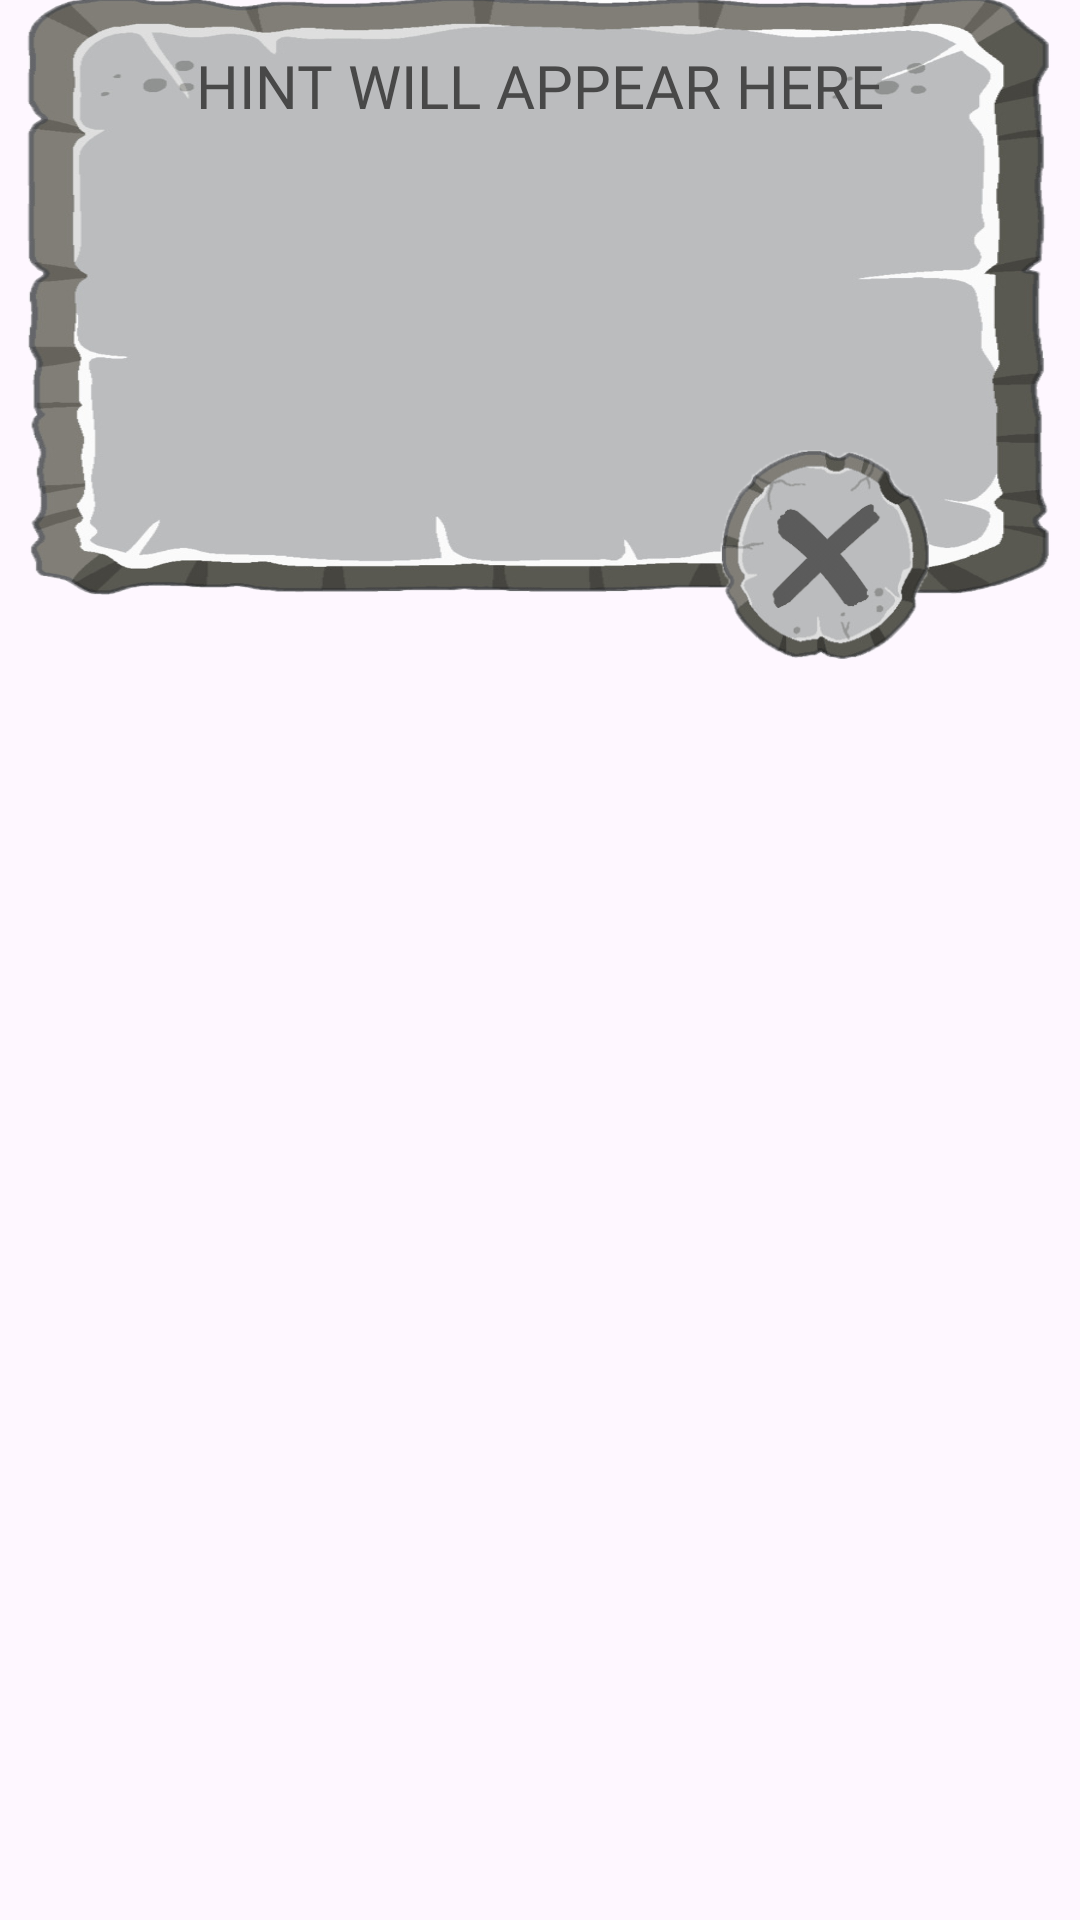

Screen size 1080 × 1920. Icon name, then its center in pixels as point (x, y):
dismiss: point (825, 555)
